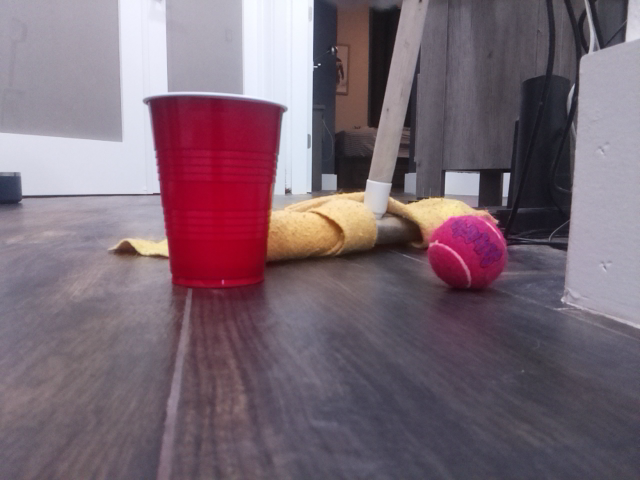red-ball: (426, 213, 508, 291)
